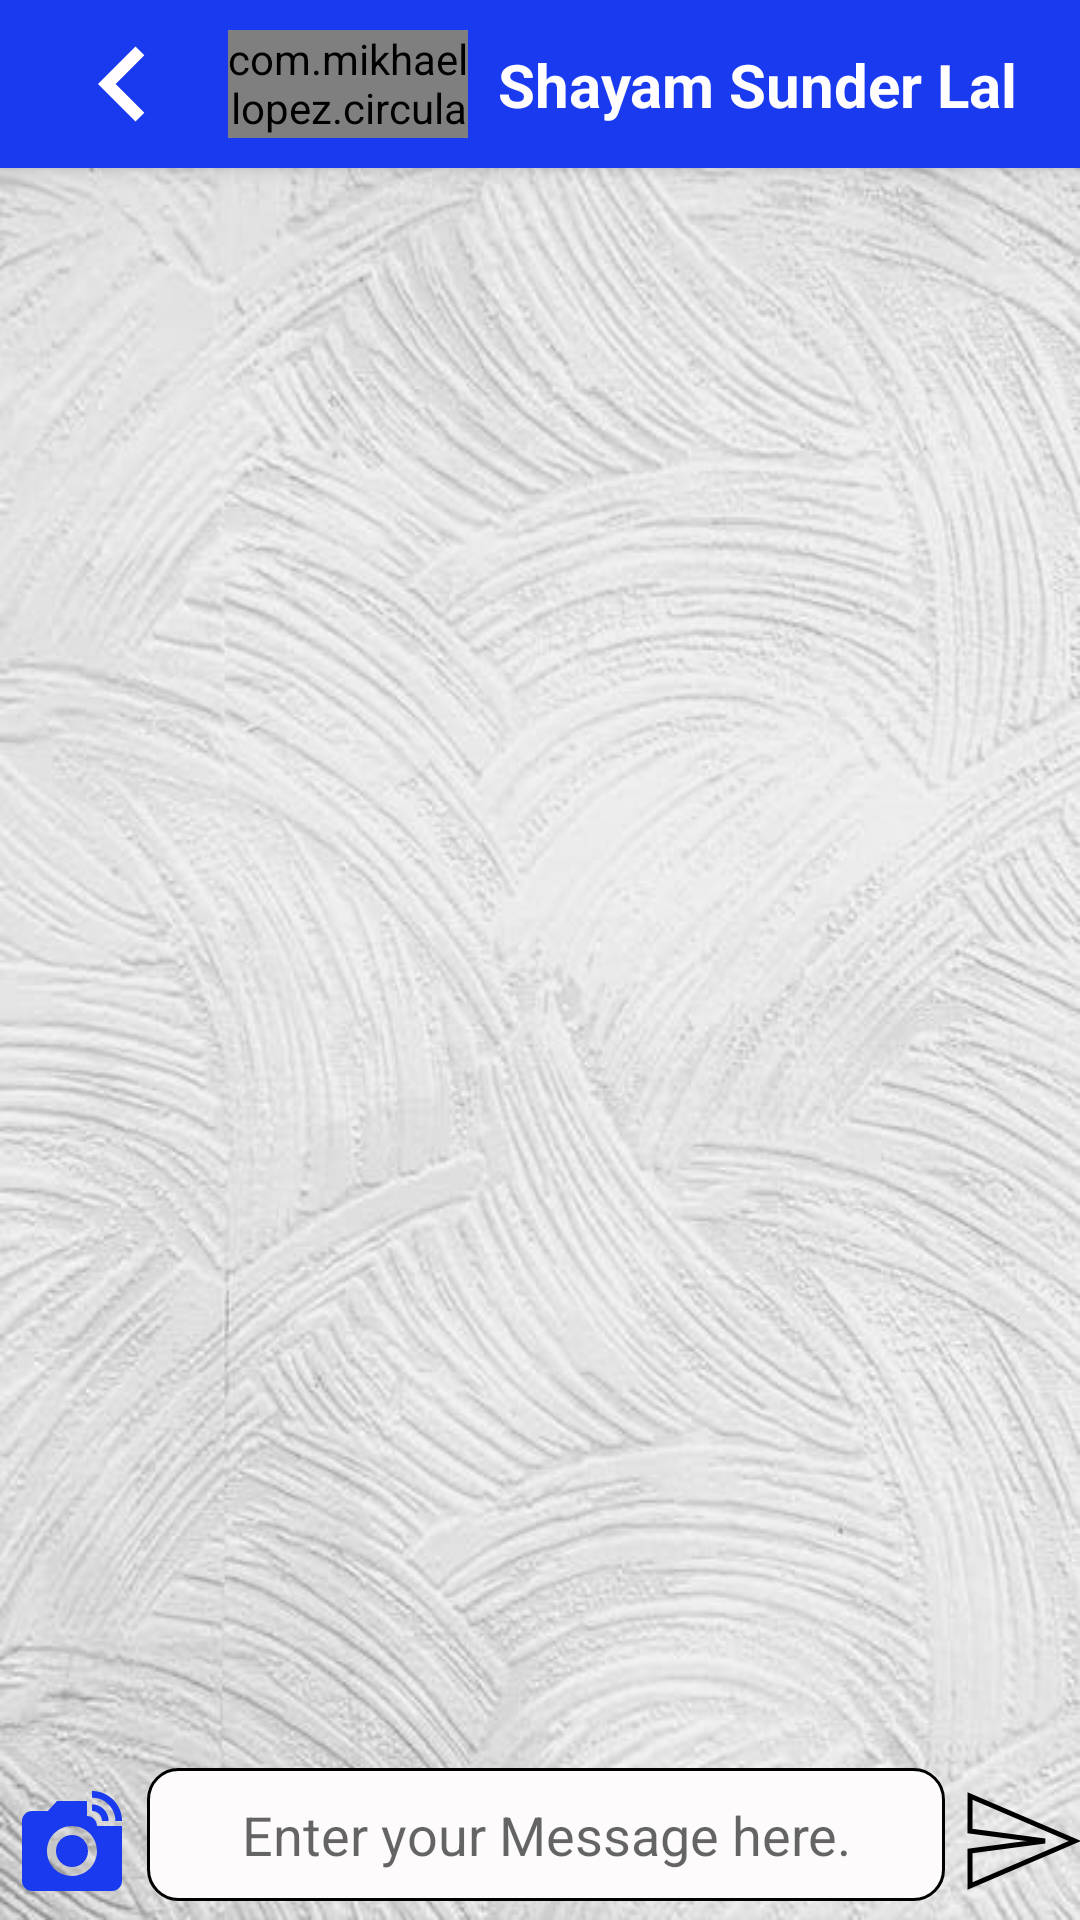

Screen size 1080w x 1920h. Icon name, then its center in pixels as (x,y):
back: (121,84)
send: (1023,1841)
